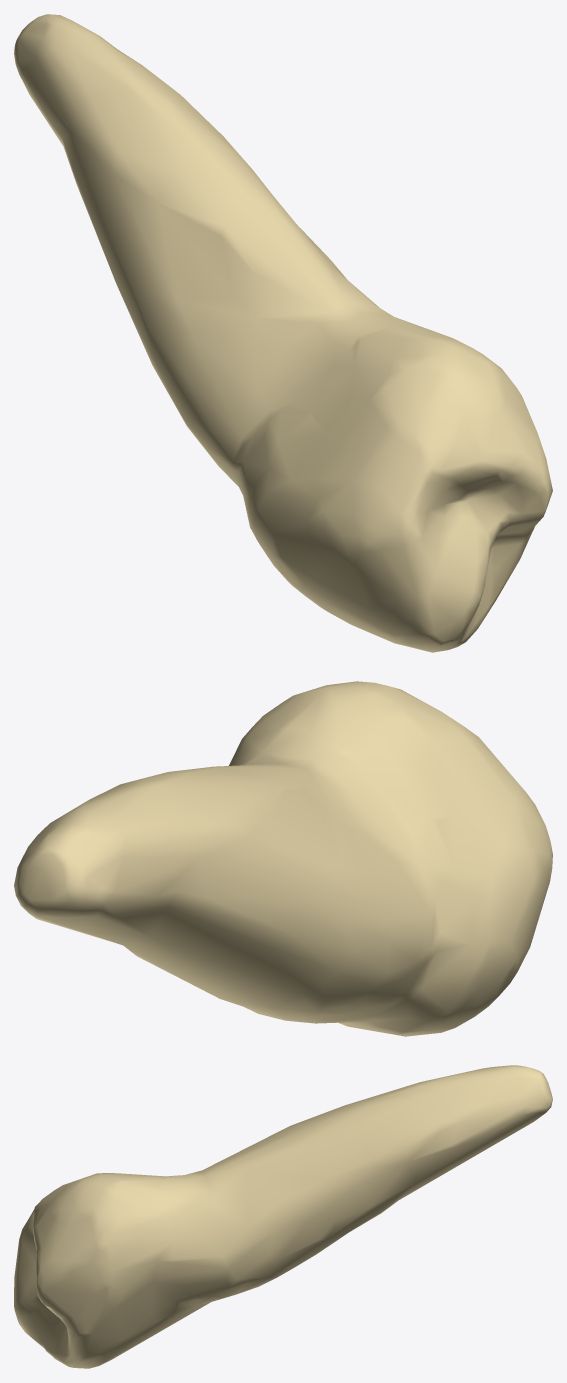
The picture shows the model from 3 angles, top to bottom: view 1: azimuth 30°, elevation 25°; view 2: azimuth 150°, elevation 25°; view 3: azimuth 270°, elevation 25°; orthographic projection. The views are drawn at different scales.
Visible parts, largest first — view 1: 右侧下颌第二前磨牙; view 2: 右侧下颌第二前磨牙; view 3: 右侧下颌第二前磨牙.
Part boxes in pixels (x1,y1,x2,y2): 右侧下颌第二前磨牙: (14,14,552,652); 右侧下颌第二前磨牙: (14,681,552,1036); 右侧下颌第二前磨牙: (14,1065,552,1368).
Bounding box in the file's own units: 0.0117 × 0.0192 × 0.0336.
